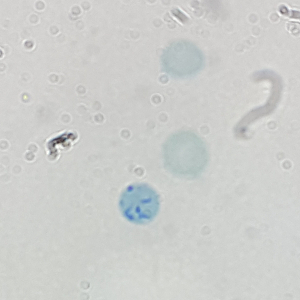aggregate reticulocyte: (116, 182, 162, 224)
erythrocyte: (160, 129, 210, 181), (159, 38, 207, 79)
